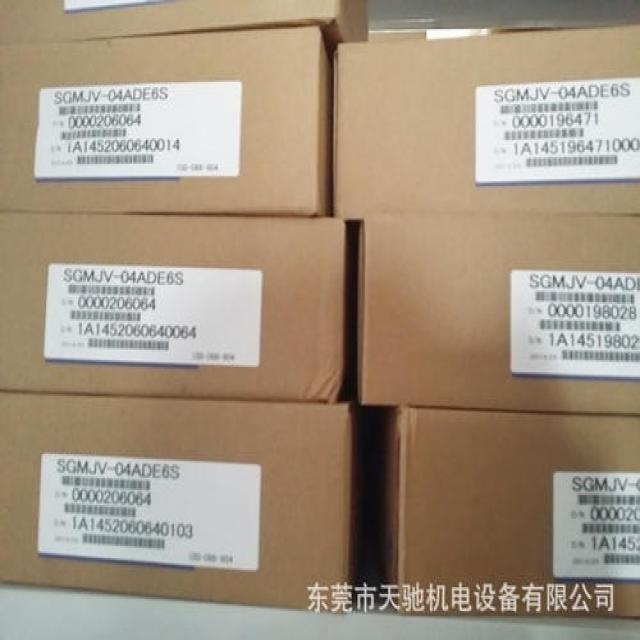box: (0, 391, 352, 614), (0, 213, 344, 403), (0, 26, 332, 215), (334, 24, 640, 220), (357, 217, 640, 415), (387, 408, 640, 618), (0, 0, 369, 60)
